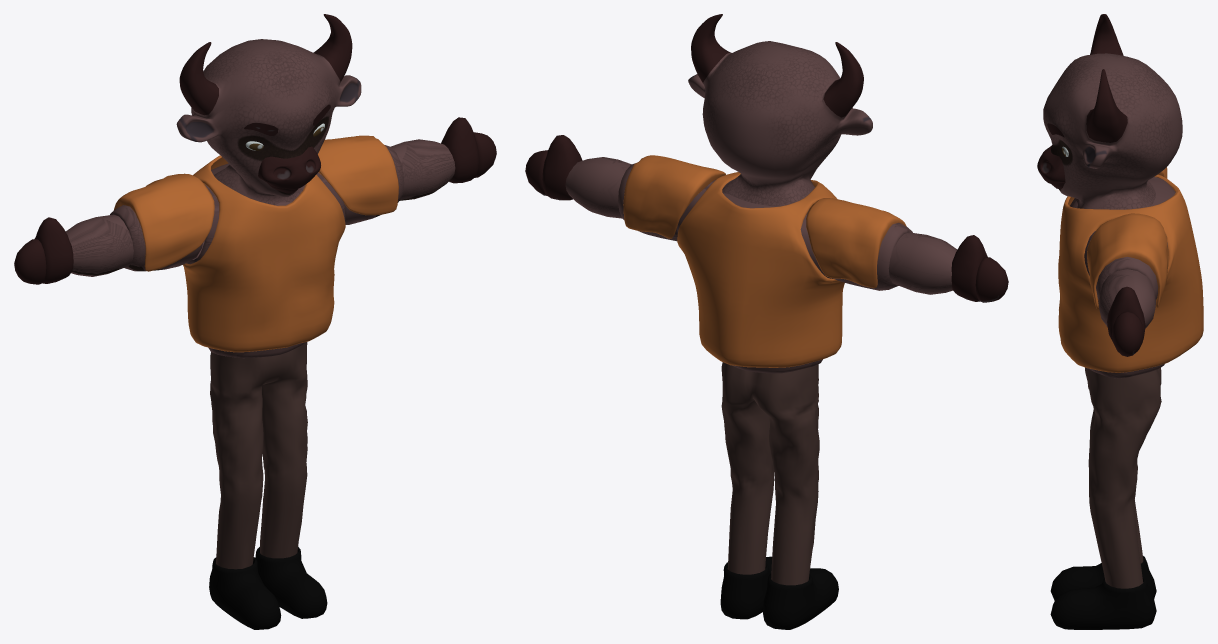
The model's file is Bisonte_Actu.glb.
The picture shows the model from 3 angles, left to right: view 1: azimuth 30°, elevation 25°; view 2: azimuth 150°, elevation 25°; view 3: azimuth 270°, elevation 25°; orthographic projection.
Parts seen in each view (by area): view 1: Cabeza_7.002; view 2: Cabeza_7.002; view 3: Cabeza_7.002.
Boxes of the visible parts, x1=… form: Cabeza_7.002: x1=14, y1=14, x2=496, y2=629; Cabeza_7.002: x1=525, y1=14, x2=1008, y2=629; Cabeza_7.002: x1=1037, y1=14, x2=1203, y2=629.
Bounding box in the file's own units: 12.66 × 14.67 × 3.87.
7 materials, 4 textured.
